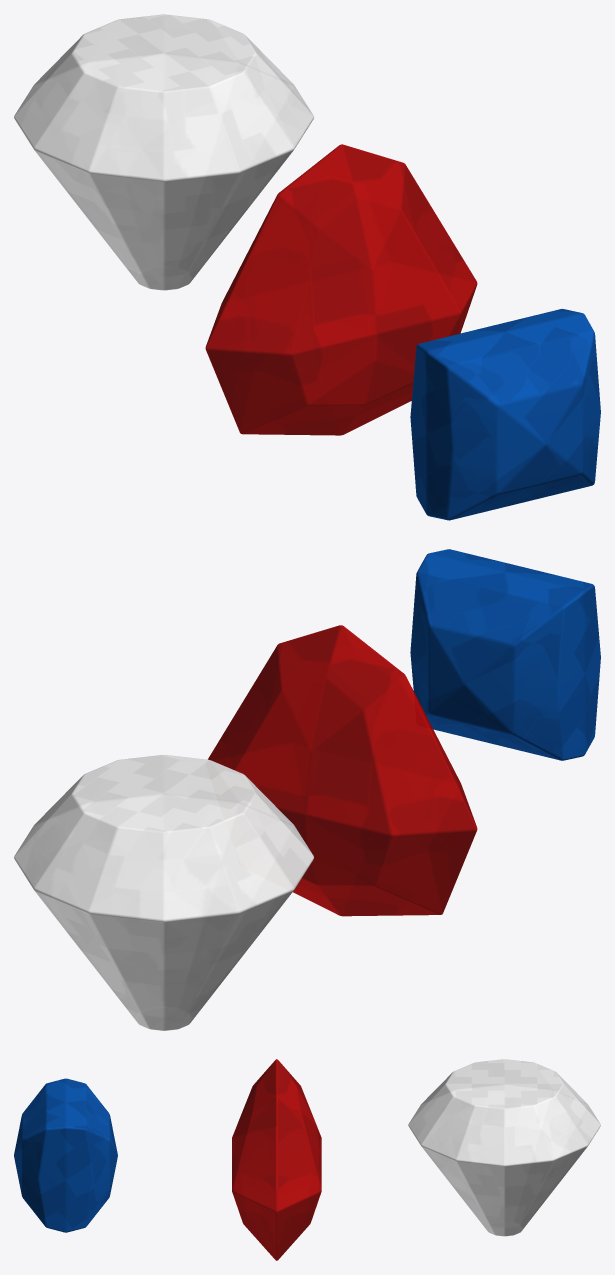
The model's file is gems.fbx.
The picture shows the model from 3 angles, top to bottom: view 1: azimuth 30°, elevation 25°; view 2: azimuth 150°, elevation 25°; view 3: azimuth 270°, elevation 25°; orthographic projection. The views are drawn at different scales.
Visible parts, largest first — view 1: gem_1, gem_2, gem_3; view 2: gem_2, gem_1, gem_3; view 3: gem_2, gem_1, gem_3.
Boxes of the visible parts, x1,y1,x2,y2 form: gem_1: [205, 144, 477, 435]; gem_2: [14, 14, 313, 290]; gem_3: [410, 309, 600, 520]; gem_2: [14, 755, 313, 1030]; gem_1: [208, 625, 477, 916]; gem_3: [410, 549, 600, 760]; gem_2: [408, 1059, 600, 1236]; gem_1: [232, 1059, 321, 1260]; gem_3: [14, 1078, 117, 1232].
Bounding box in the file's own units: 23.02 × 23.58 × 67.18.
Materials: 3 (3 with a texture image).
